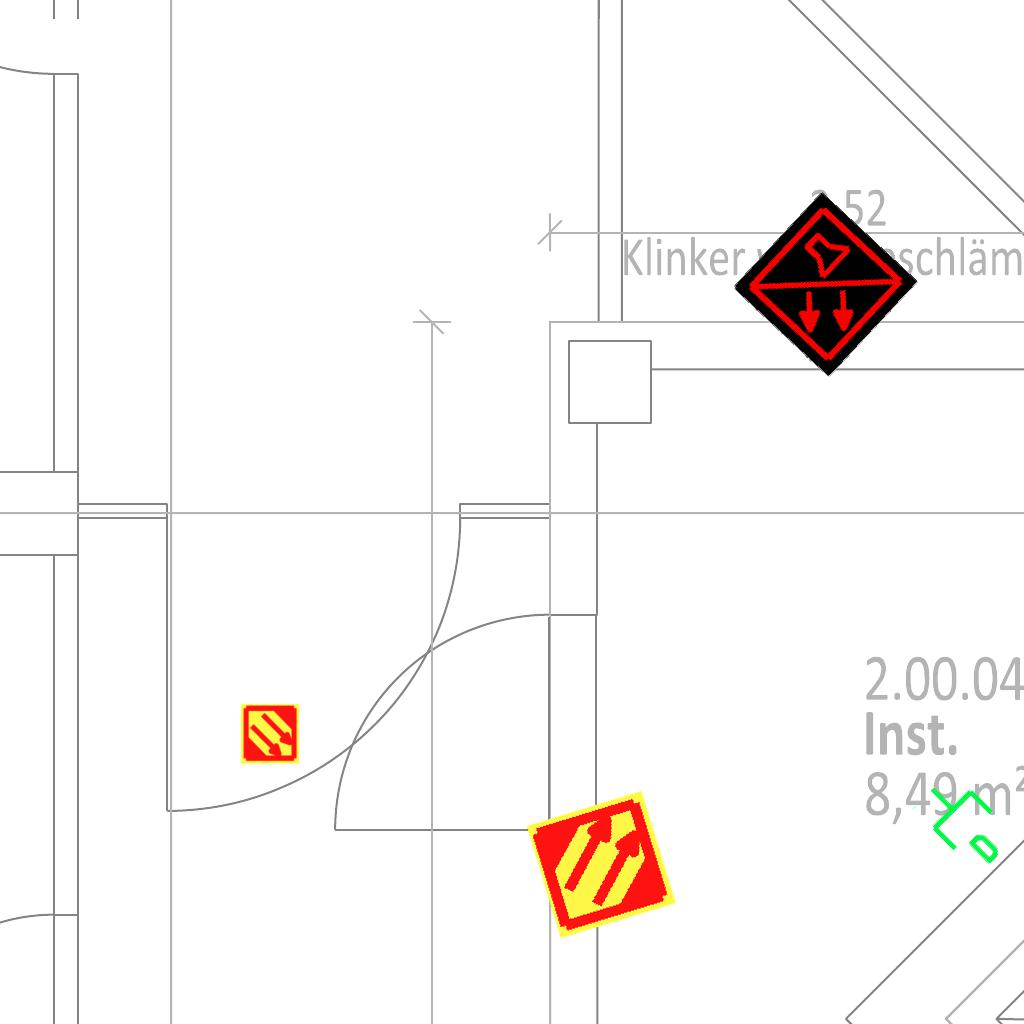ASR_Ansaugrauchmelder: (523, 786, 680, 943), (239, 703, 301, 765)
Datenanschluss_einfach: (906, 761, 1024, 881)
OKW_Multisensormelder_(Kombination_optischer_Rauch-Kahlenmonoxid_Waerme-Melder): (731, 191, 919, 379)
